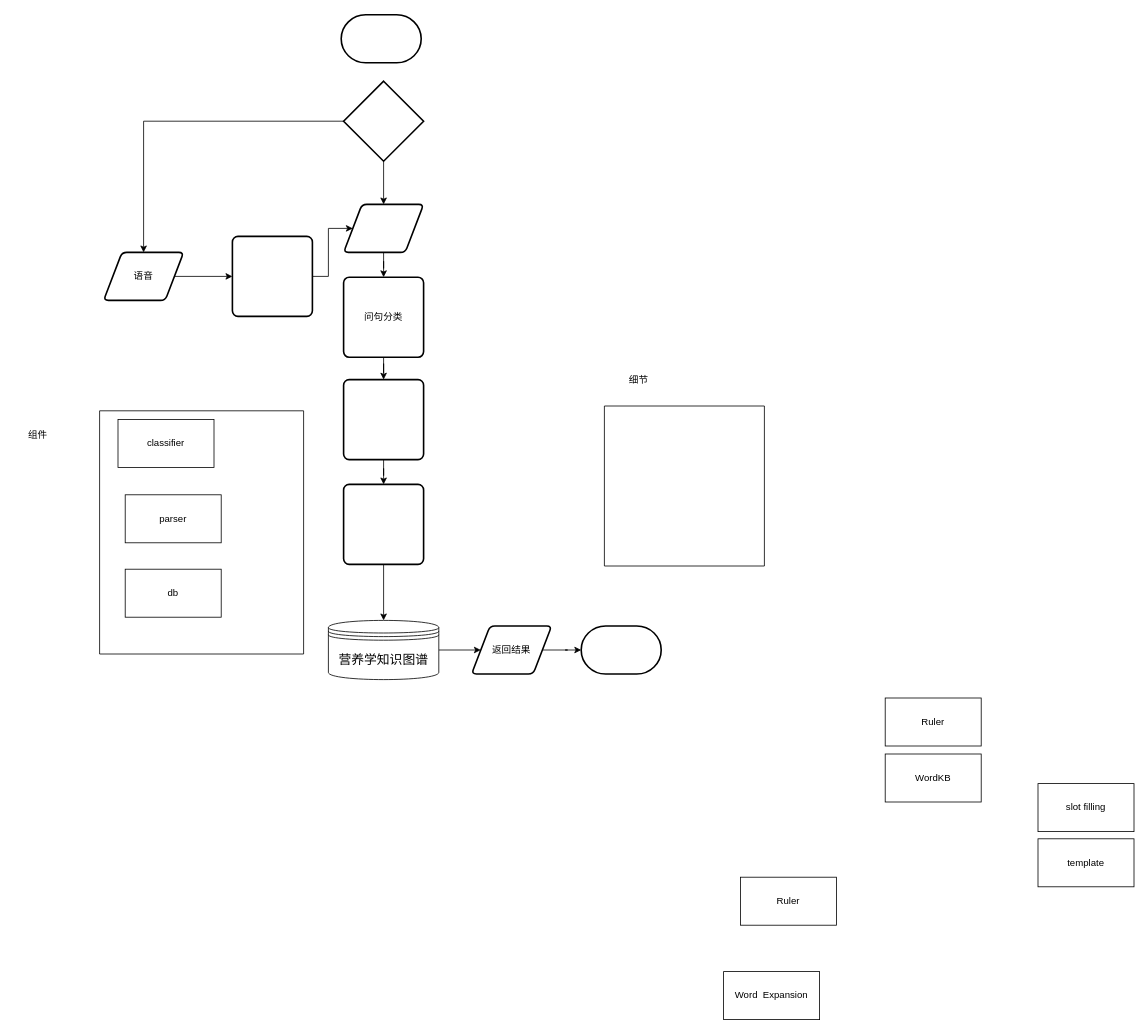
Some shapes in this 1148 by 1034 pixel diagram are drawn without their labels. Here are the shapes that lost their labels. From the top down, the centre of each, then its label:
At point 381,38: "开始".
At point 383,121: "选择输入方式".
At point 383,228: "文本".
At point 272,276: "语音识别".
At point 383,419: "问句解析".
At point 383,524: "数据层转换".
At point 621,649: "结束".
